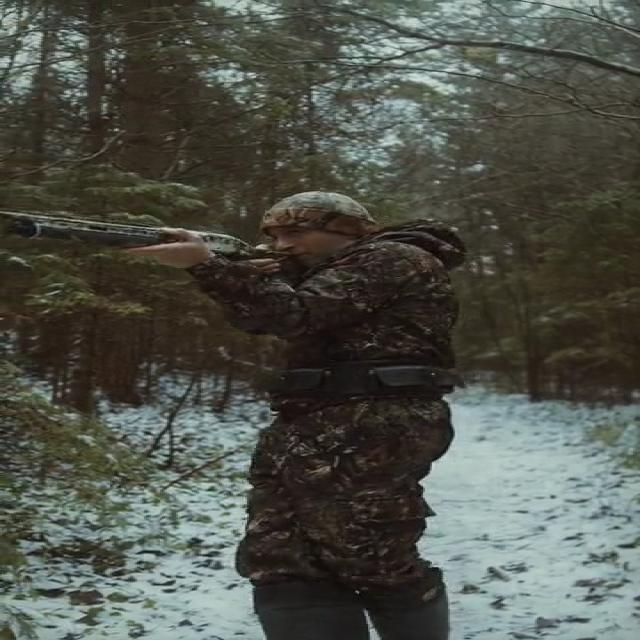Gun_Holder: (2, 208, 274, 288)
Person: (197, 182, 481, 640)
